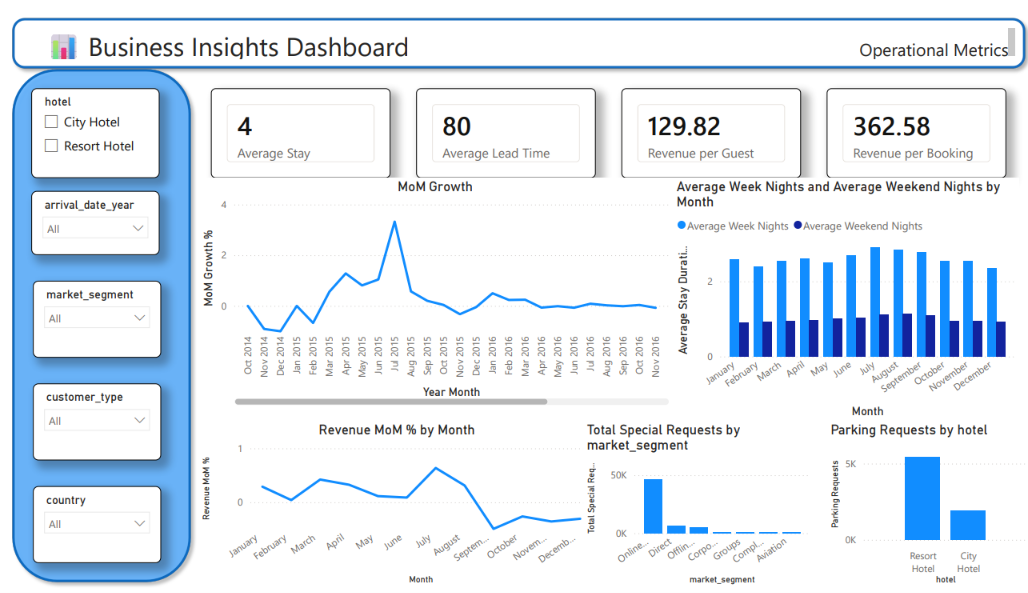

The dashboard page shown, as its layout file describes it:
{"tool":"powerbi","page":{"name":"Operational metrics","canvas":[1280,720],"ordinal":1},"visuals":[{"type":"shape","box":[0,0,1280,80],"z":0},{"type":"shape","box":[0,64,240,656],"z":1},{"type":"textbox","box":[16,16,1248,48],"z":2},{"type":"cardVisual","fields":{"Data":["Measure.Average Stay"]},"box":[256,96,224,112],"z":3},{"type":"cardVisual","fields":{"Data":["Measure.Revenue per Booking"]},"box":[1024,96,224,112],"z":4},{"type":"cardVisual","fields":{"Data":["Measure.Revenue per Guest"]},"box":[768,96,224,112],"z":5},{"type":"cardVisual","fields":{"Data":["Measure.Average Lead Time"]},"box":[512,96,224,112],"z":6},{"type":"slicer","fields":{"Values":["hotel_bookings.hotel"]},"box":[32,96,160,112],"z":7},{"type":"slicer","fields":{"Values":["hotel_bookings.customer_type"]},"box":[34,464.3,160,96],"z":8},{"type":"slicer","fields":{"Values":["hotel_bookings.market_segment"]},"box":[34,336.3,160,96],"z":9},{"type":"slicer","fields":{"Values":["hotel_bookings.arrival_date_year"]},"box":[32,224,160,80],"z":10},{"type":"slicer","fields":{"Values":["hotel_bookings.country"]},"box":[34,592.3,160,96],"z":11},{"type":"lineChart","title":"MoM Growth","fields":{"Y":["Measure.MoM Growth %"],"Category":["Calendar.Year Month"]},"box":[240,208,592,288],"z":12},{"type":"lineChart","fields":{"Category":["Calendar.Month"],"Y":["Measure.Revenue MoM %"]},"box":[240,512,496,208],"z":13},{"type":"clusteredColumnChart","fields":{"Y":["Measure.Average Week Nights","Measure.Average Weekend Nights"],"Category":["Calendar.Month"]},"box":[832,208,432,304],"z":14},{"type":"columnChart","fields":{"Y":["Measure.Total Special Requests"],"Category":["hotel_bookings.market_segment"]},"box":[720,512,288,208],"z":15},{"type":"clusteredColumnChart","fields":{"Category":["hotel_bookings.hotel"],"Y":["Measure.Parking Requests"]},"box":[1024,512,256,208],"z":16}]}

Visuals, with their boxes in screenshot pixels (x1, y1, x2, y2), scaled from the page's 1280x720 canvas onto the 1028x593 screenshot:
shape: bbox(0, 0, 1027, 66)
shape: bbox(0, 53, 193, 592)
textbox: bbox(13, 13, 1015, 53)
cardVisual - Measure.Average Stay: bbox(206, 79, 386, 171)
cardVisual - Measure.Revenue per Booking: bbox(822, 79, 1002, 171)
cardVisual - Measure.Revenue per Guest: bbox(617, 79, 797, 171)
cardVisual - Measure.Average Lead Time: bbox(411, 79, 591, 171)
slicer - hotel_bookings.hotel: bbox(26, 79, 154, 171)
slicer - hotel_bookings.customer_type: bbox(27, 382, 156, 461)
slicer - hotel_bookings.market_segment: bbox(27, 277, 156, 356)
slicer - hotel_bookings.arrival_date_year: bbox(26, 184, 154, 250)
slicer - hotel_bookings.country: bbox(27, 488, 156, 567)
"MoM Growth" lineChart: bbox(193, 171, 668, 409)
lineChart - Calendar.Month x Measure.Revenue MoM %: bbox(193, 422, 591, 592)
clusteredColumnChart - Measure.Average Week Nights x Measure.Average Weekend Nights: bbox(668, 171, 1015, 422)
columnChart - Measure.Total Special Requests x hotel_bookings.market_segment: bbox(578, 422, 810, 592)
clusteredColumnChart - hotel_bookings.hotel x Measure.Parking Requests: bbox(822, 422, 1027, 592)
